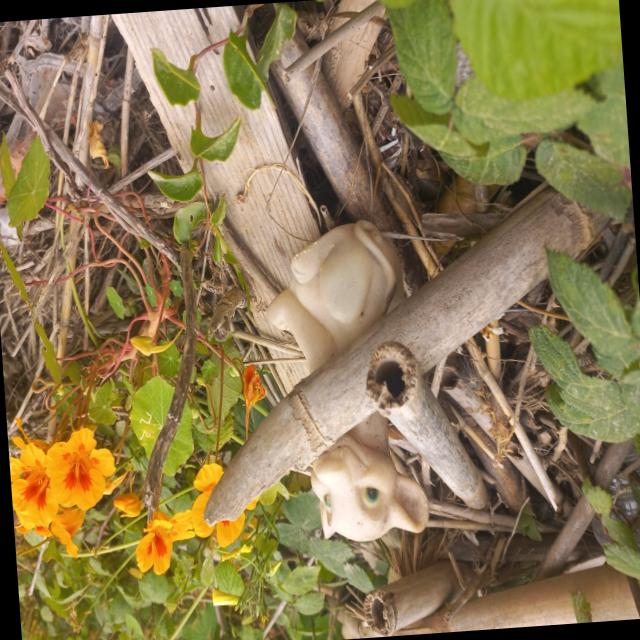Other plastic: (269, 214, 431, 545)
